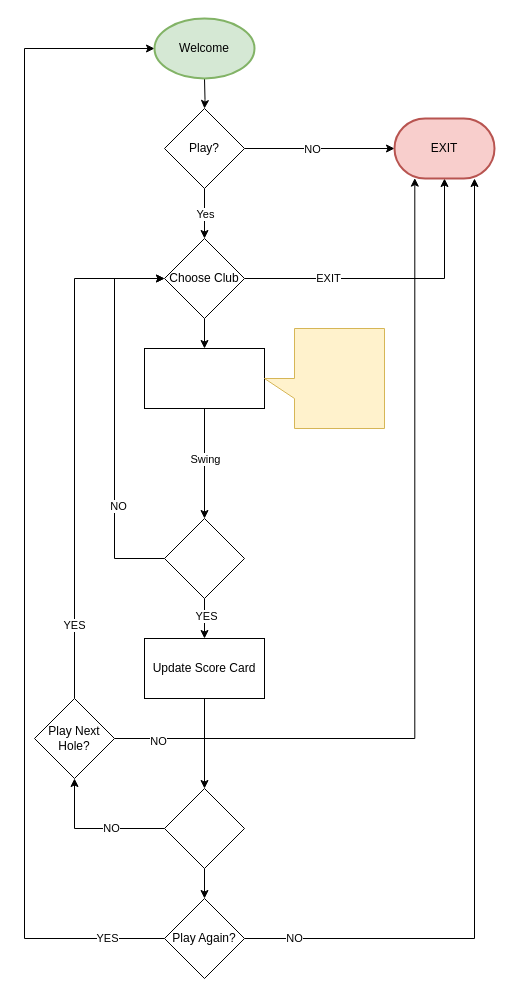
The diagram is 513 pixels wide and 996 high, and some of its shapes have lost their labels. The centre of each missing label's shape, as x and y in pixels:
Ball in the Hole?: [204,558]
Club Selection Presented based on Remaining Yards: [204,378]
Driver >200, Wood >175, Iron >75, Wedge >45, Putter >1: [324,378]
Last Hole?: [204,828]
